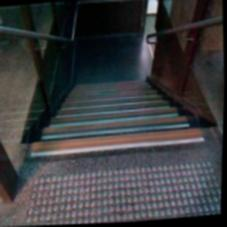Animal: (25, 93, 208, 168)
